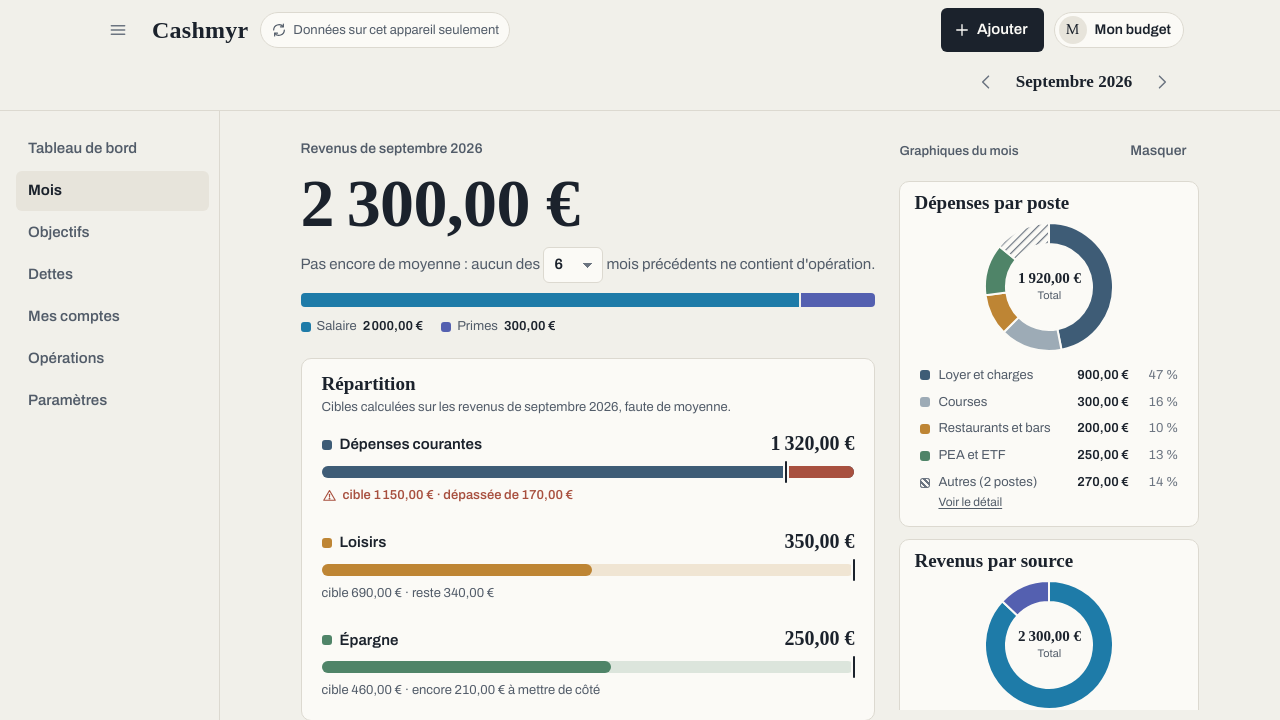
Test case: camemberts du mois › se masquent pour cet appareil seulement, et reviennent
The image size is (1280, 720).
Click the button "Masquer". click: (1158, 151)
box: [1117, 133, 1200, 169]
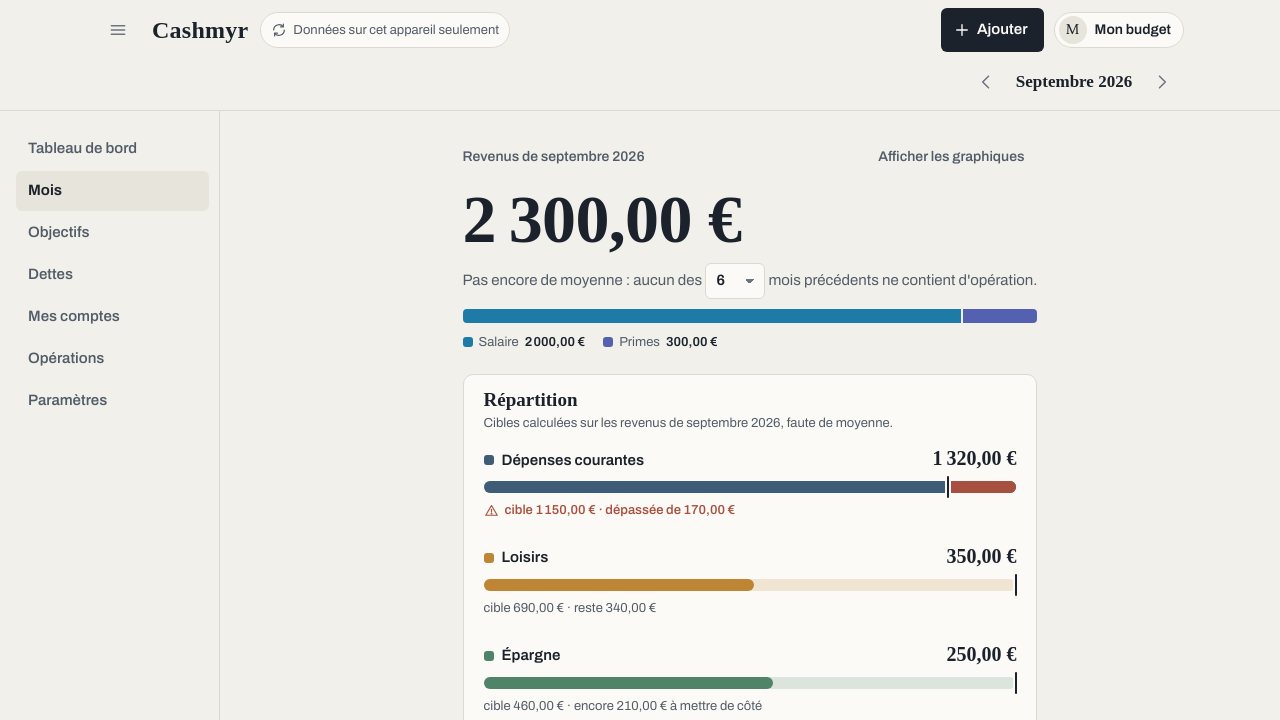
Expected: the heading "Dépenses par poste" is gone
Click the button "Afficher les graphiques". click: (951, 157)
box: [865, 139, 1038, 175]
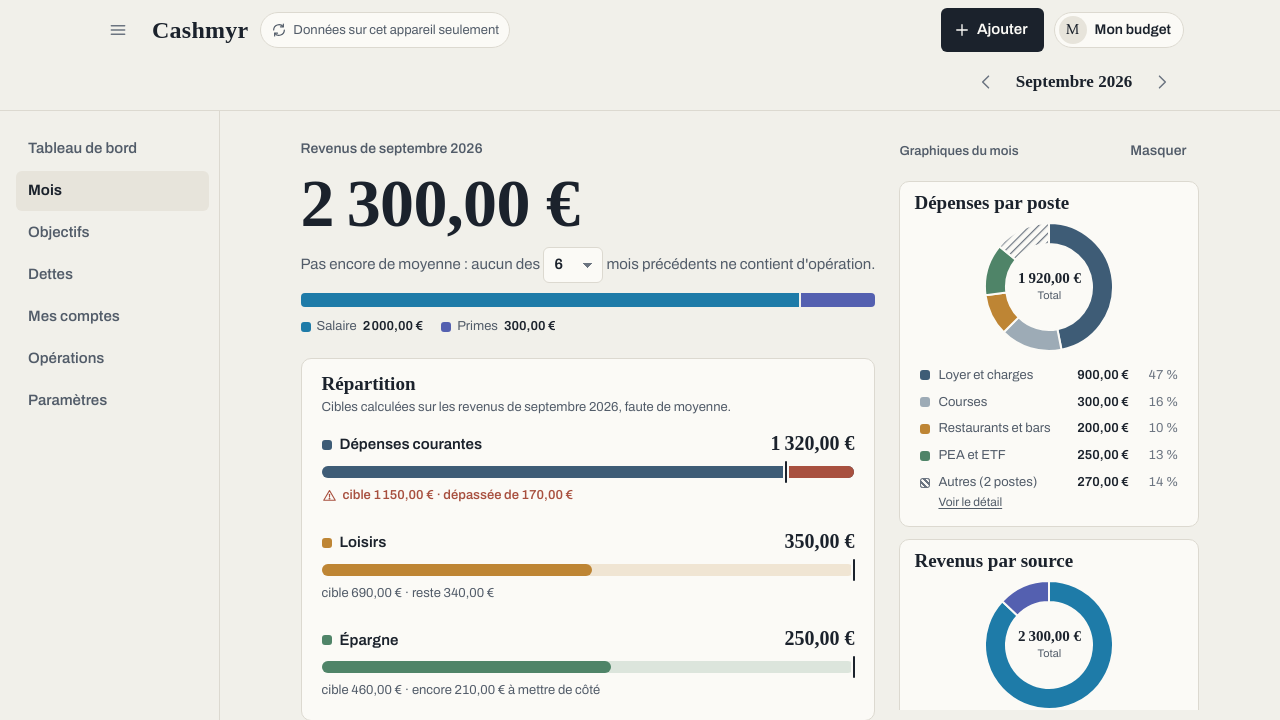
Expected: the heading "Revenus par source" is shown, [914, 550, 1073, 573]
